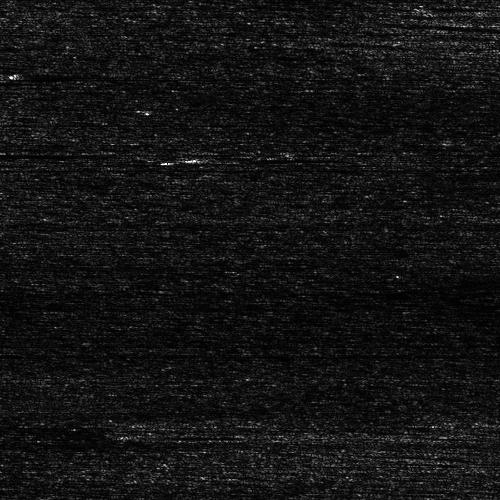rock: (107, 423, 138, 444), (141, 153, 224, 160)
shadow: (123, 423, 190, 444), (183, 153, 253, 160), (0, 151, 77, 156)
